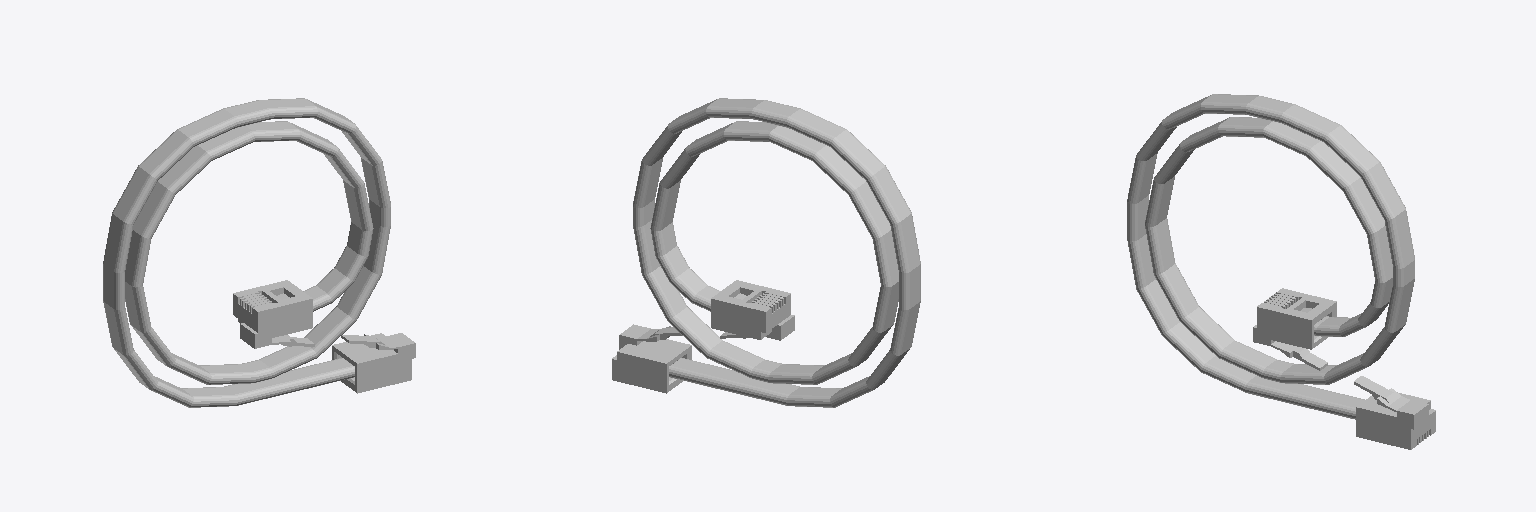
Rendered from Piece017.obj.
3 views of the same model, side by side, from view 1: azimuth 30°, elevation 25°; view 2: azimuth 150°, elevation 25°; view 3: azimuth 330°, elevation 25° (orthographic).
Visible parts, largest first — view 1: Piece000; view 2: Piece000; view 3: Piece000.
Part boxes in pixels (x1,y1,x2,y2): Piece000: (103, 98, 415, 407); Piece000: (612, 98, 920, 407); Piece000: (1127, 94, 1435, 449).
Bounding box in the file's own units: 166 × 162 × 25.